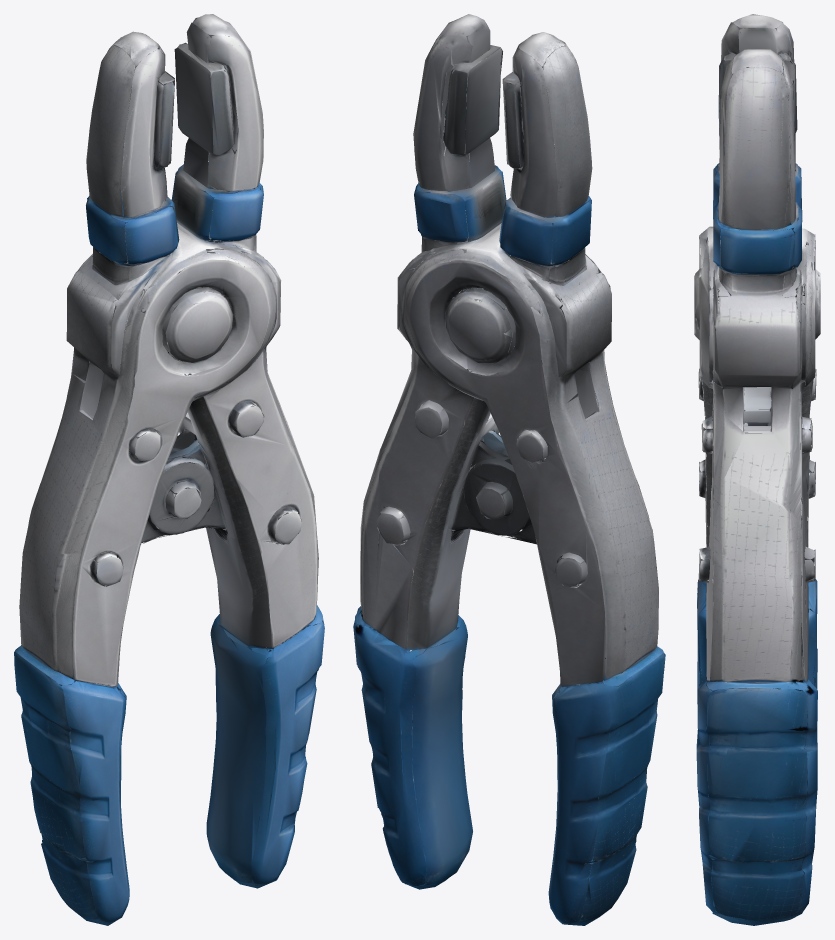
File: Player_RecyclingPliers.fbx
The picture shows the model from 3 angles, left to right: view 1: azimuth 30°, elevation 25°; view 2: azimuth 150°, elevation 25°; view 3: azimuth 270°, elevation 25°; orthographic projection.
Parts seen in each view (by area): view 1: Player_RecyclingPliers; view 2: Player_RecyclingPliers; view 3: Player_RecyclingPliers.
Boxes of the visible parts, x1,y1,x2,y2 form: Player_RecyclingPliers: (14,14,324,925); Player_RecyclingPliers: (353,14,665,925); Player_RecyclingPliers: (694,14,820,925).
Bounding box in the file's own units: 10.06 × 30.01 × 4.01.
1 material, 1 textured.
